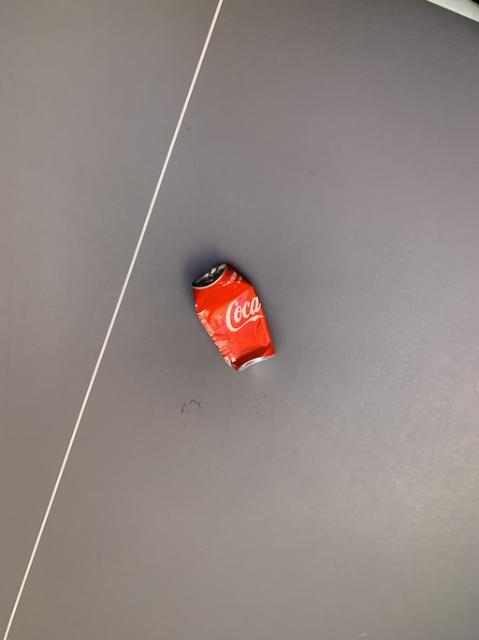metal: (191, 262, 274, 368)
